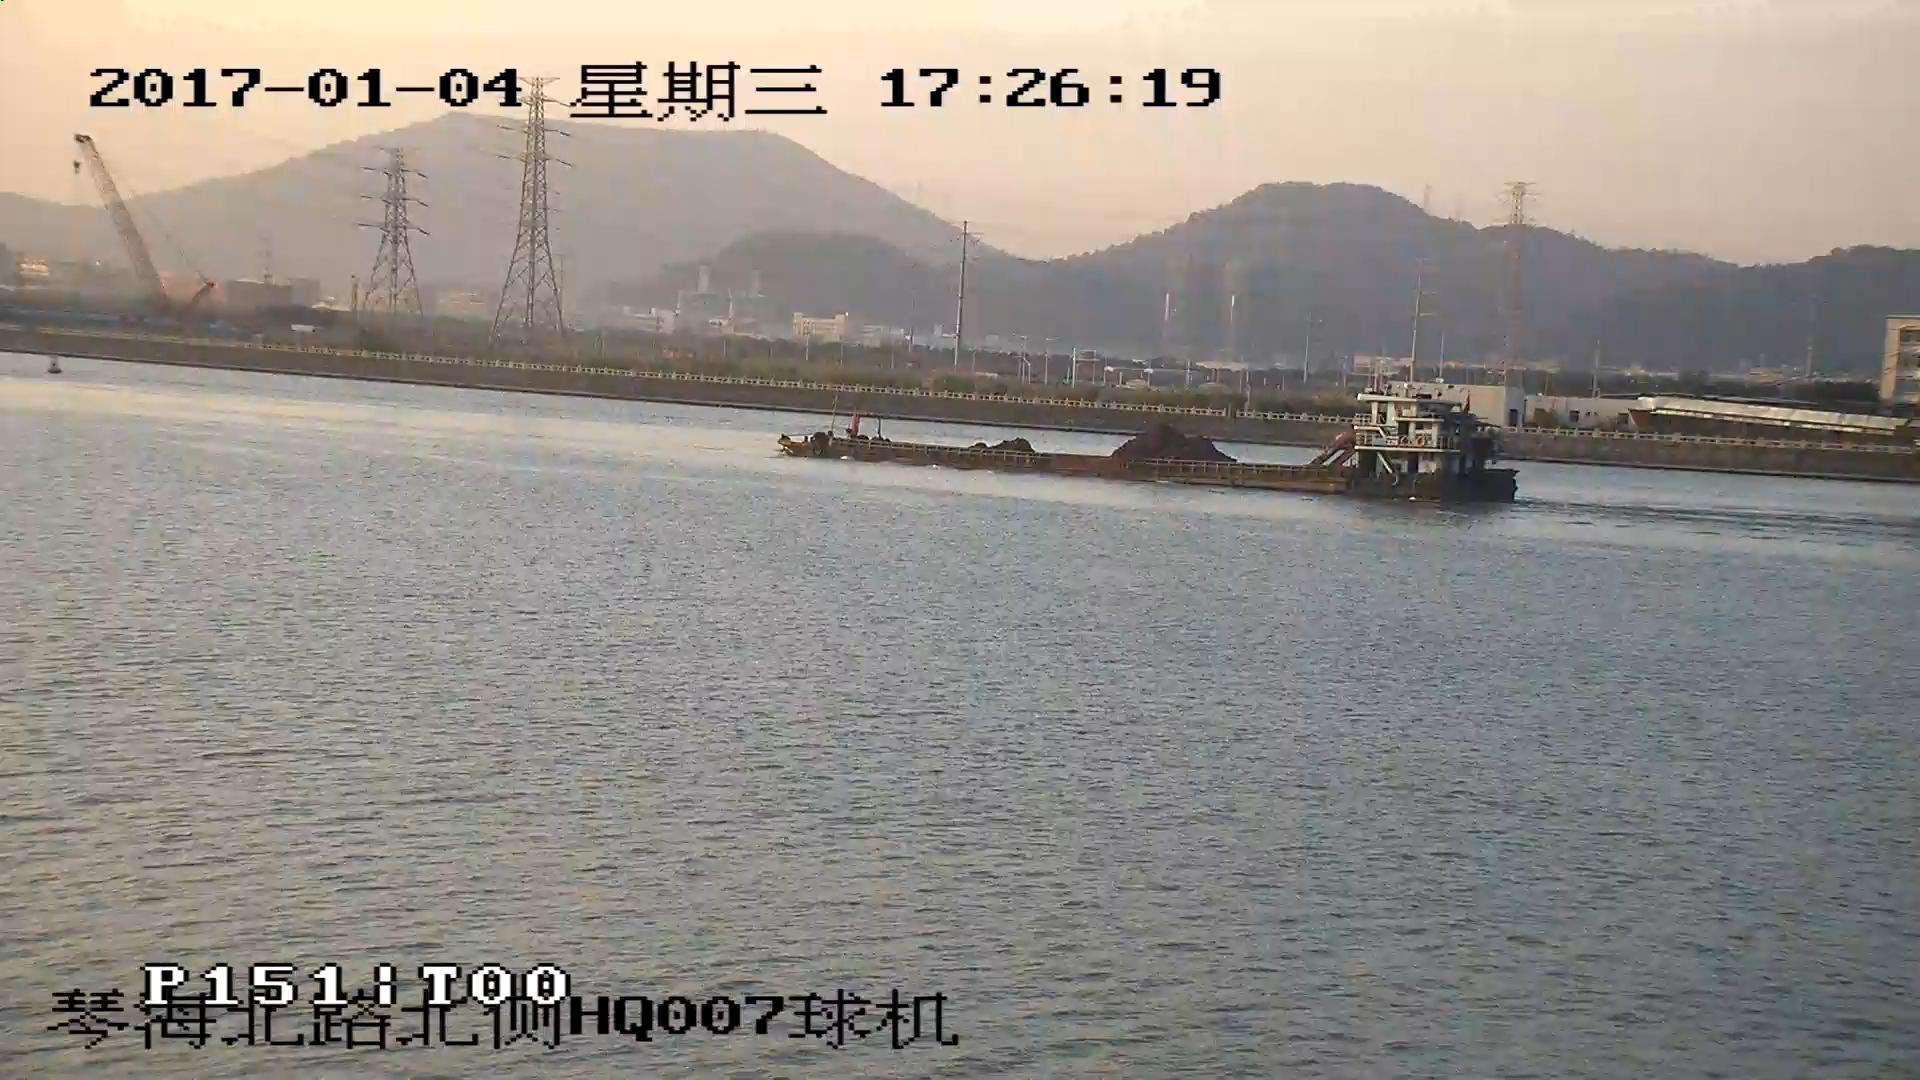ore carrier: (782, 397, 1515, 501)
